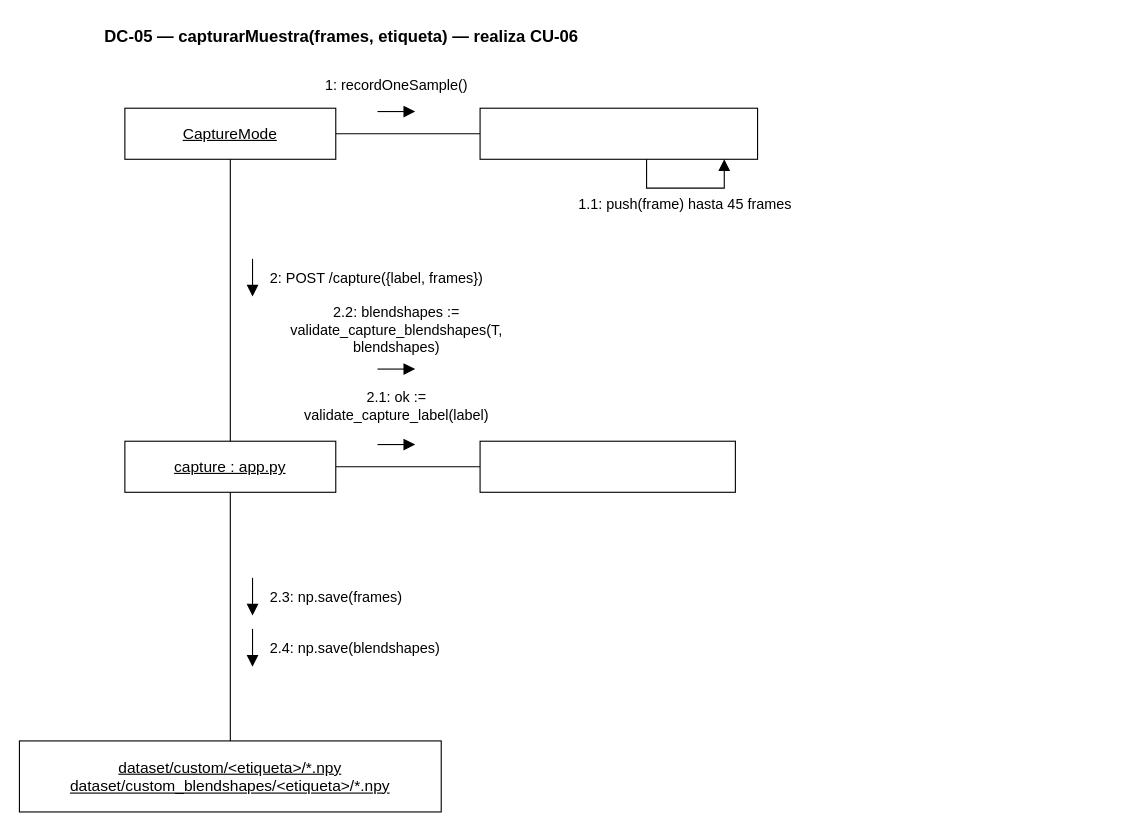
Some shapes in this 1121 by 831 pixel diagram are drawn without their labels. The centre of each missing label's shape, as x and y in pixels:
"capture_validation" belongs at (x=607, y=466).
"captureHandlerRef (frame handler)" belongs at (x=618, y=133).
